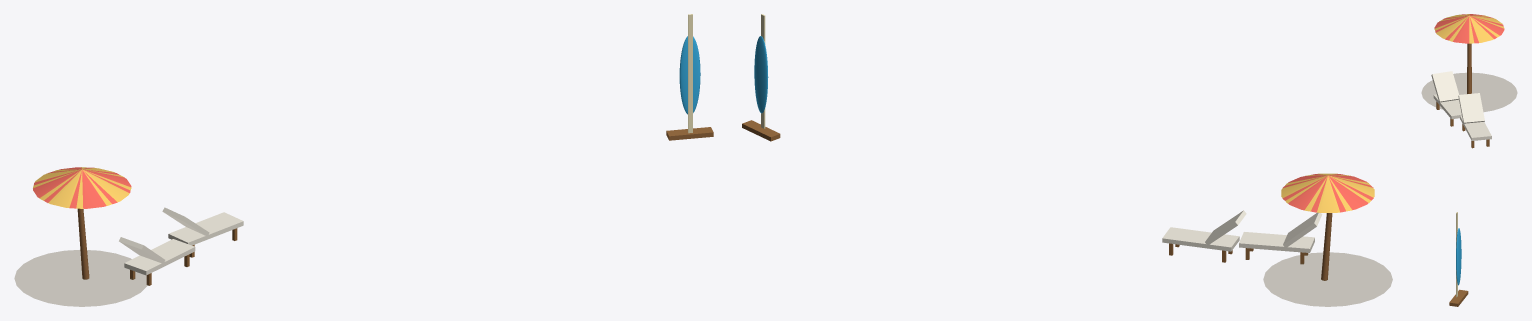
Rendered from tropical-props.glb.
The picture shows the model from 3 angles, left to right: view 1: azimuth 30°, elevation 25°; view 2: azimuth 150°, elevation 25°; view 3: azimuth 270°, elevation 25°; orthographic projection. The views are drawn at different scales.
Size of the model in its own units: 12.96 by 2.29 by 2.24.
